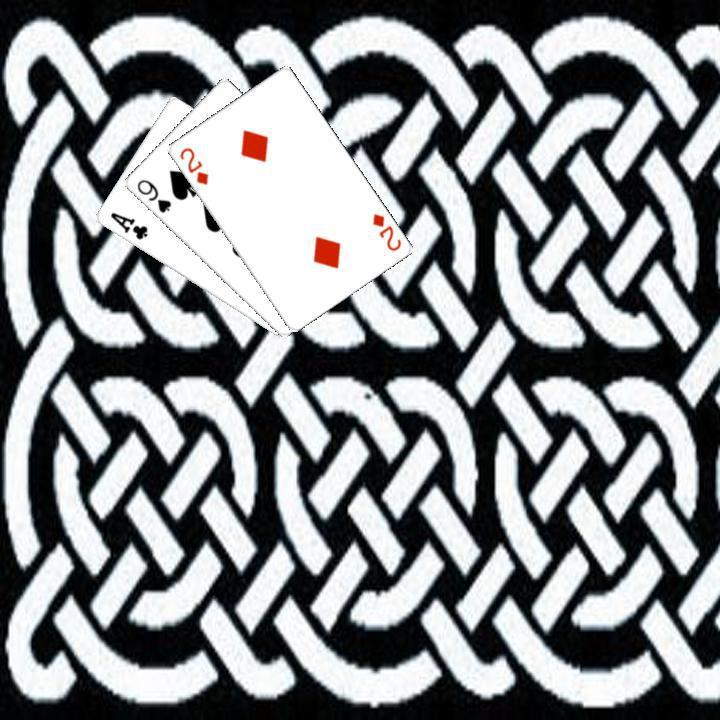2: (367, 209, 403, 253), (175, 143, 210, 187)
9: (132, 175, 173, 215)
A: (106, 208, 149, 242)
